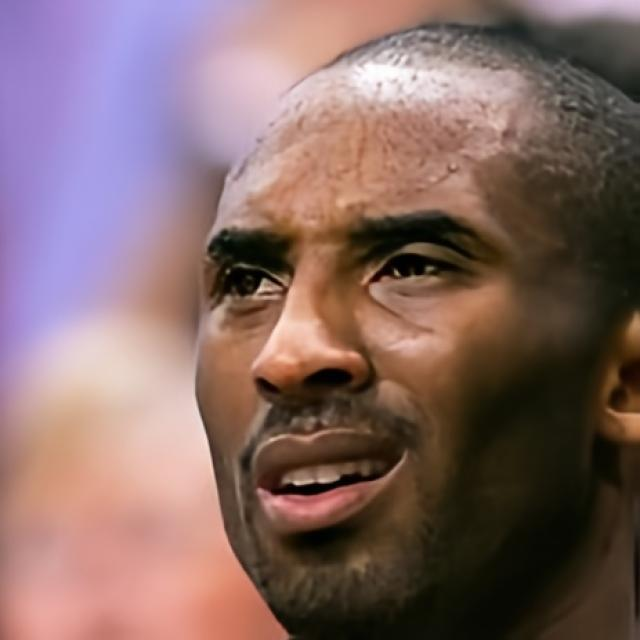disgust: (192, 60, 640, 639)
